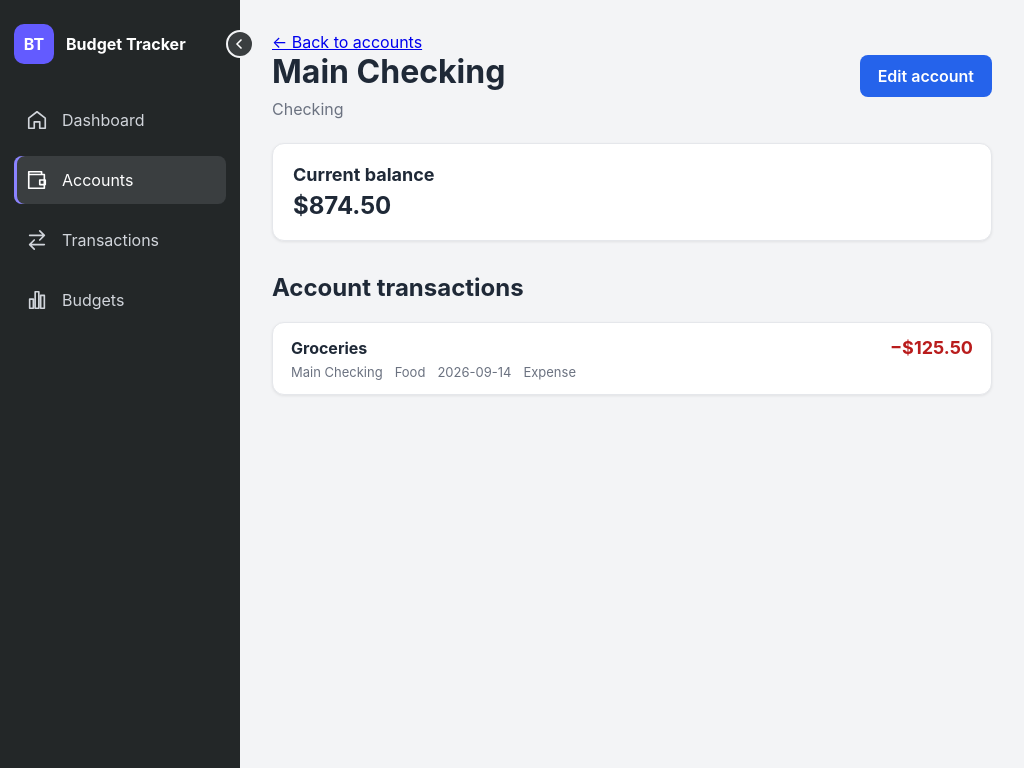
Test: returns to the originating account after transaction back
Click the link "Groceries −$125.50 Main Checking Food 2026-09-14 Expense": point(329, 348) [272,322,992,395]
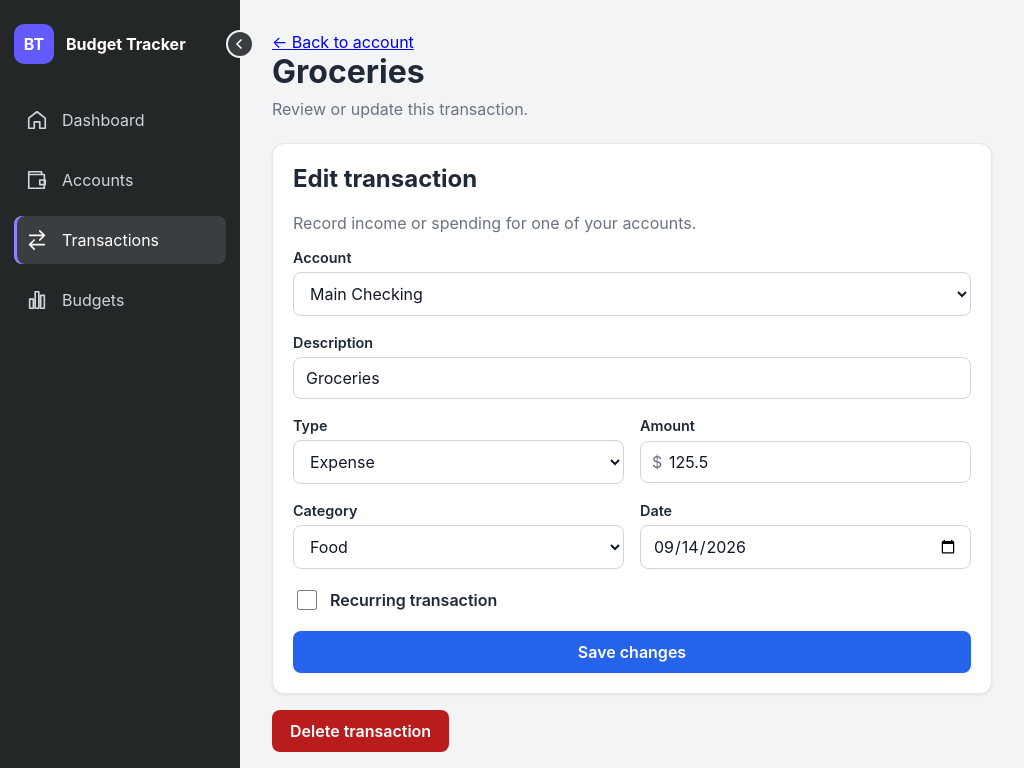
Replace the text in the field labelled "Description" with "Unsaved": point(632, 378) [293,357,971,399]
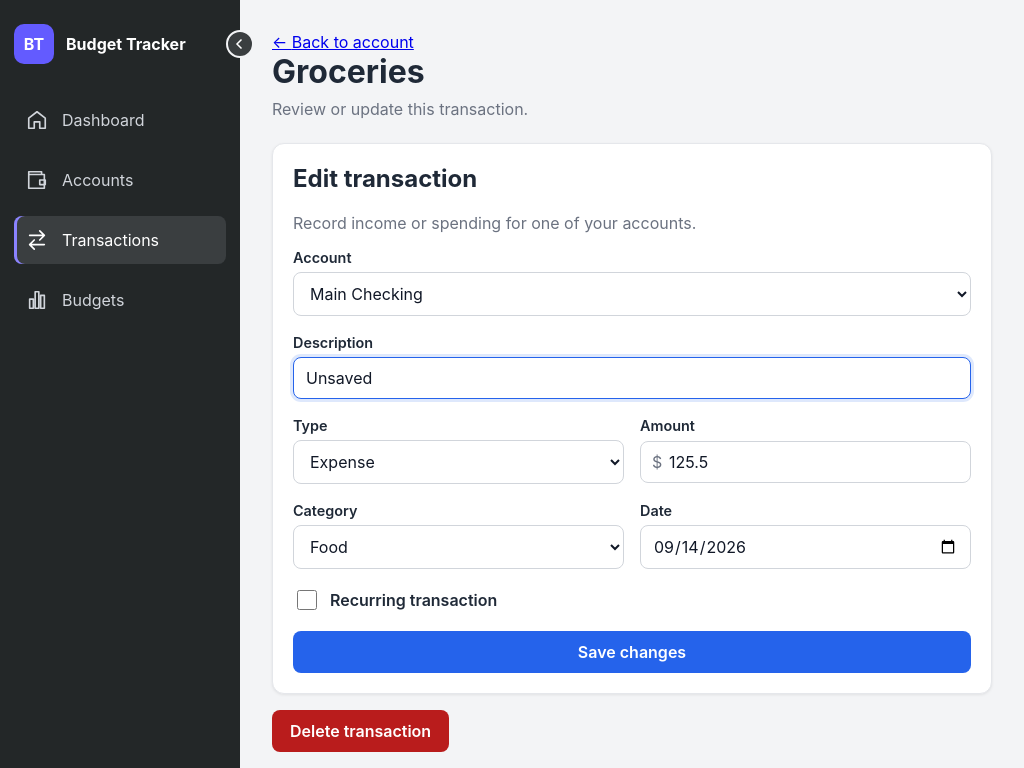
Click the link "← Back to account": point(282, 42) [272,32,414,52]
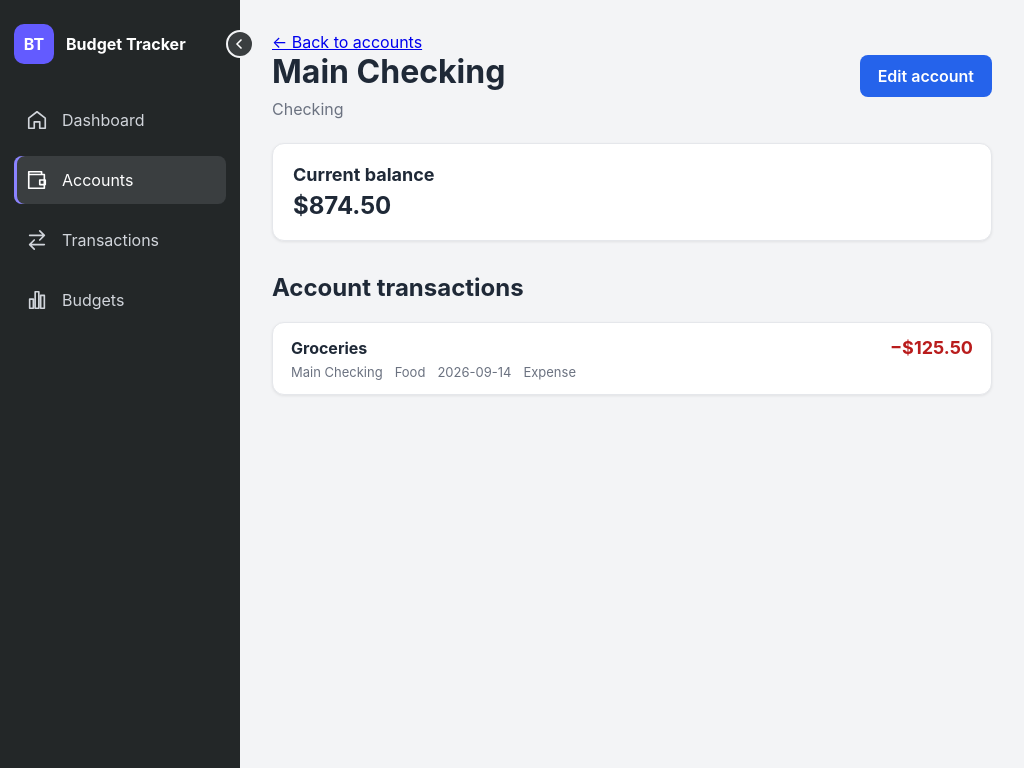
Check: the heading "Main Checking" is shown, box [272,52,505,91]
Check: the text "$874.50" is shown, box [293,191,391,220]
Check: the link "Groceries −$125.50 Main Checking Food 2026-09-14 Expense" is shown, box [272,322,992,395]
